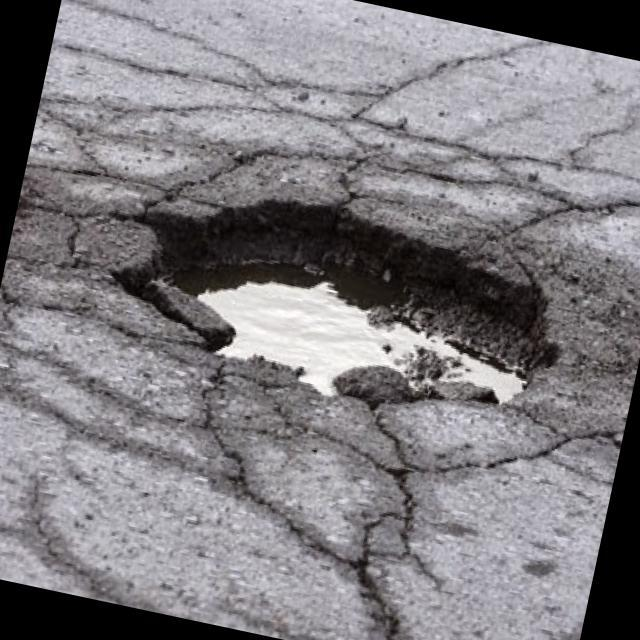Pothole: (83, 96, 636, 462)
